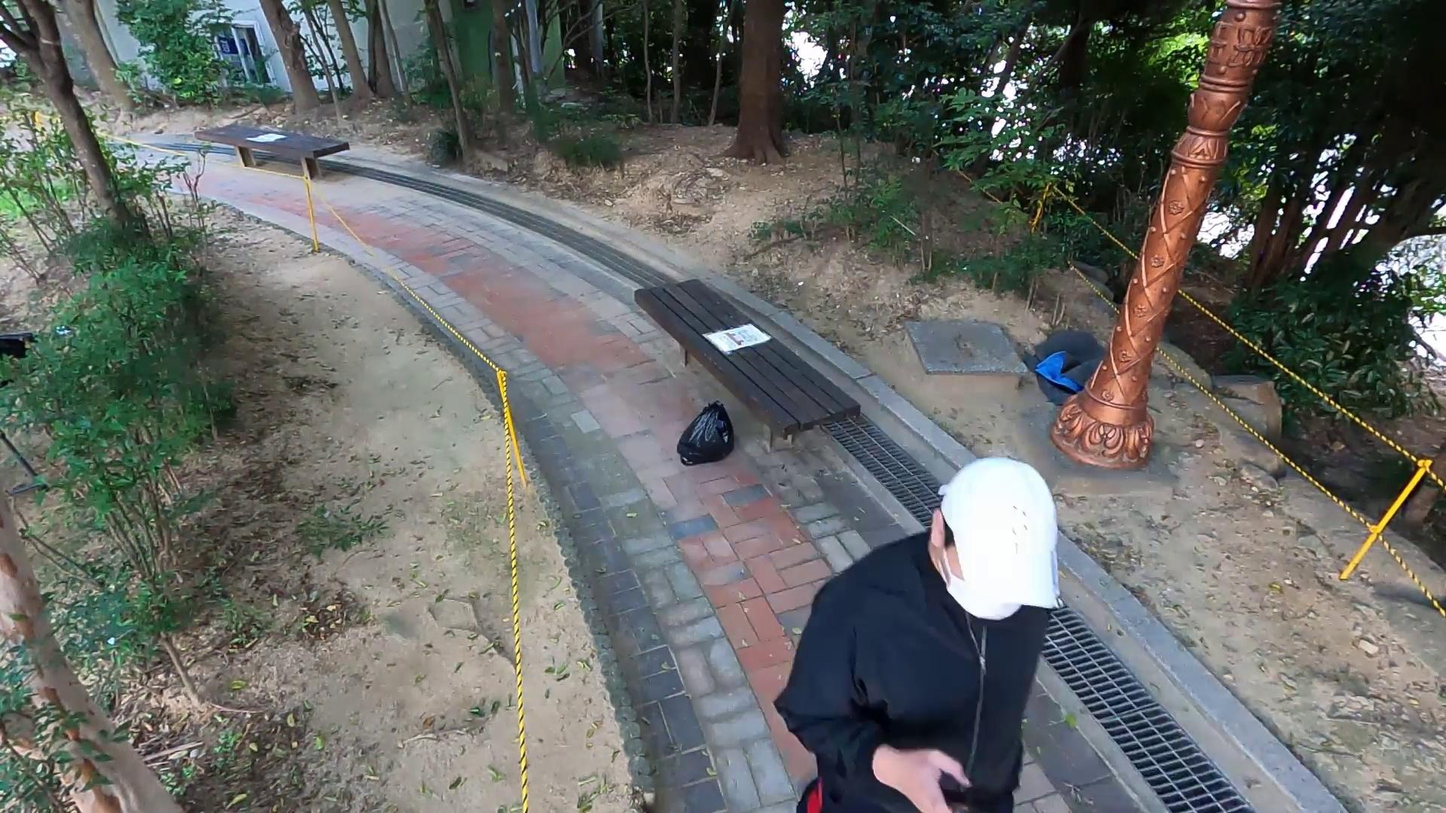person: (767, 454, 1072, 813)
trash: (1027, 317, 1128, 401), (676, 394, 744, 466)
